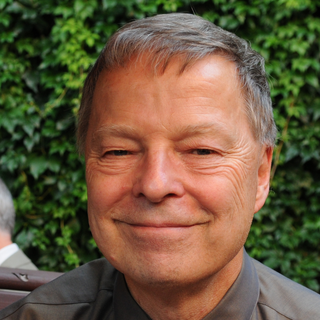eye: (177, 141, 228, 163), (97, 142, 143, 164)
